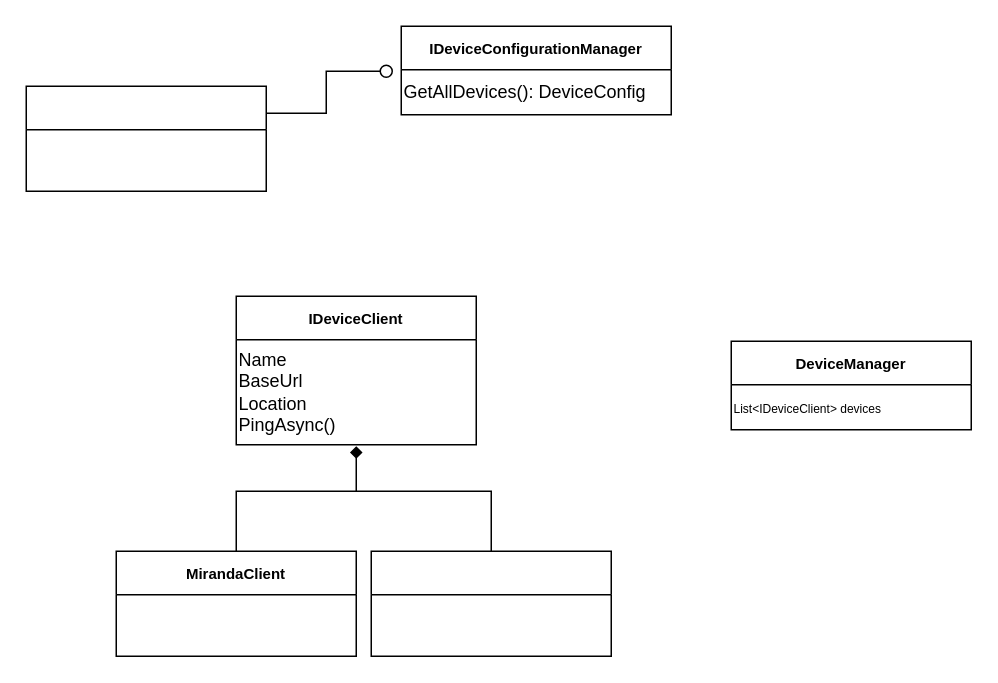
The diagram is 998 pixels wide and 683 high, and some of its shapes have lost their labels. Each missing label, with the centre of its shape:
DeviceConfigurationManager: [145,138]
OberonClient: [490,603]
